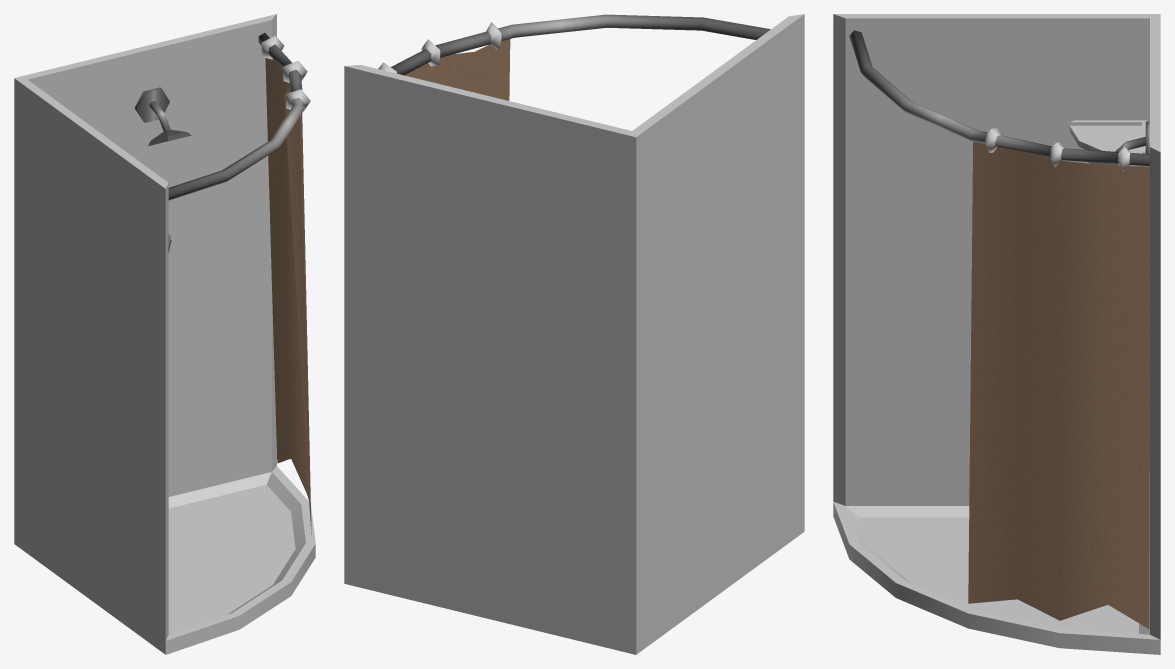
The model's file is Shower_Stall_D.FBX.
3 renders of one model, left to right at view 1: azimuth 30°, elevation 25°; view 2: azimuth 150°, elevation 25°; view 3: azimuth 270°, elevation 25°, orthographic. The views are drawn at different scales.
Parts seen in each view (by area): view 1: Shower_Stall; view 2: Shower_Stall; view 3: Shower_Stall.
Part boxes in pixels (x1,y1,x2,y2): Shower_Stall: [14, 14, 315, 654]; Shower_Stall: [344, 14, 804, 654]; Shower_Stall: [833, 14, 1160, 654].
Bounding box in the file's own units: 295 × 500 × 295.
